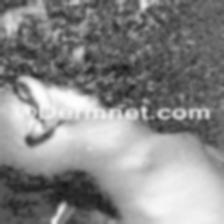Toxin: (0, 0, 49, 34), (120, 0, 162, 19)
